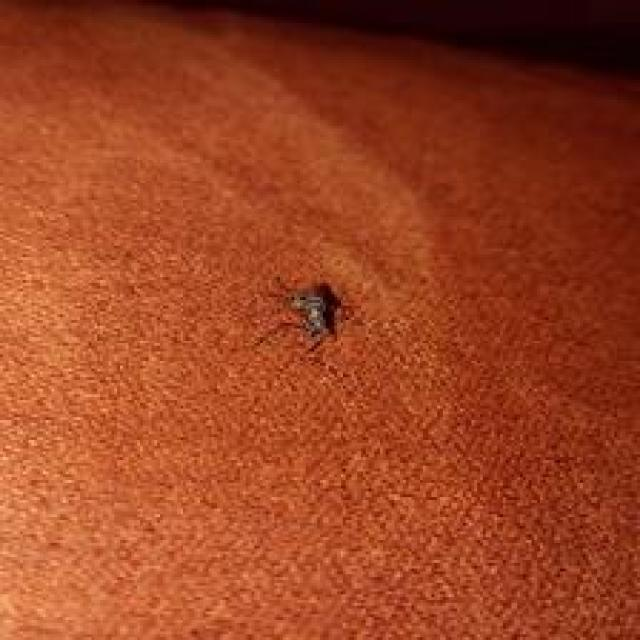Aedes albopictus: (255, 274, 352, 357)
